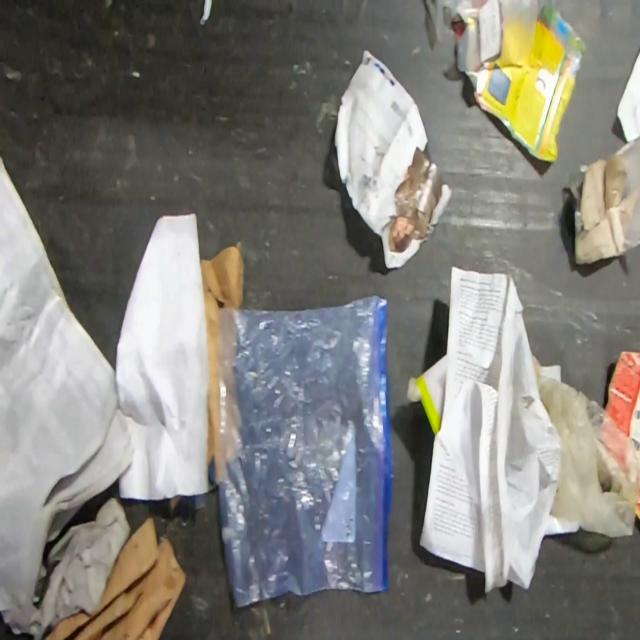cardboard: (450, 0, 588, 165), (43, 515, 188, 640), (200, 244, 246, 492), (566, 134, 640, 266), (602, 349, 640, 473), (635, 480, 639, 521)
soft_plastic: (217, 291, 396, 611), (530, 350, 640, 538), (424, 0, 543, 48)
